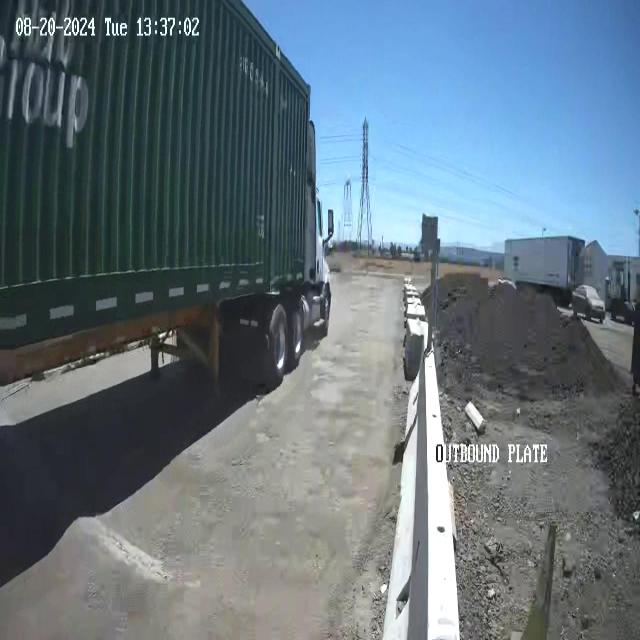TRUCK_CONTAINER: (1, 2, 334, 394)
